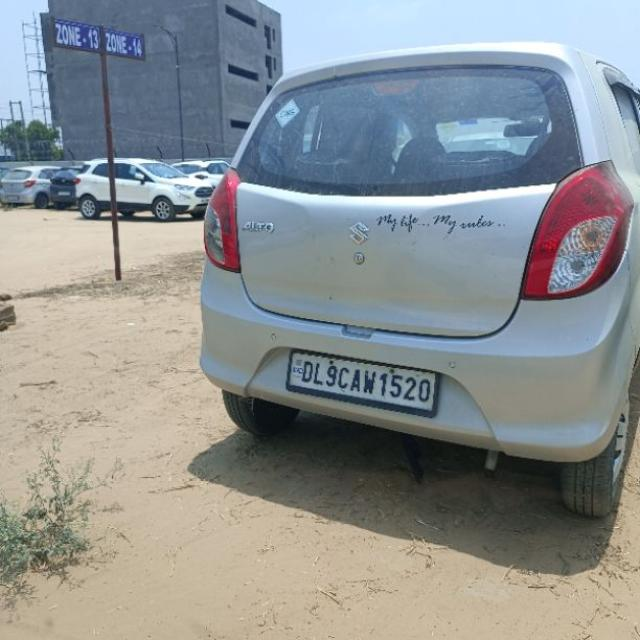license_plate: (284, 347, 440, 417)
